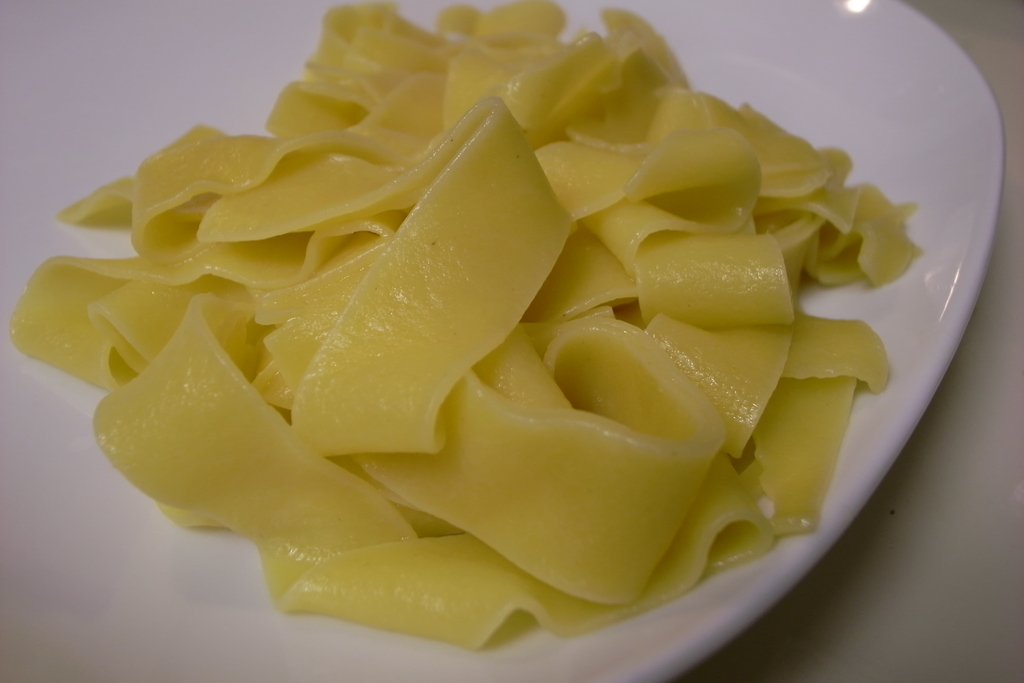pasta: (7, 0, 922, 654)
